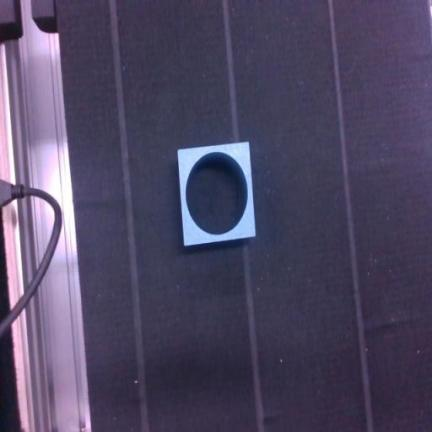square: (179, 142, 255, 246)
